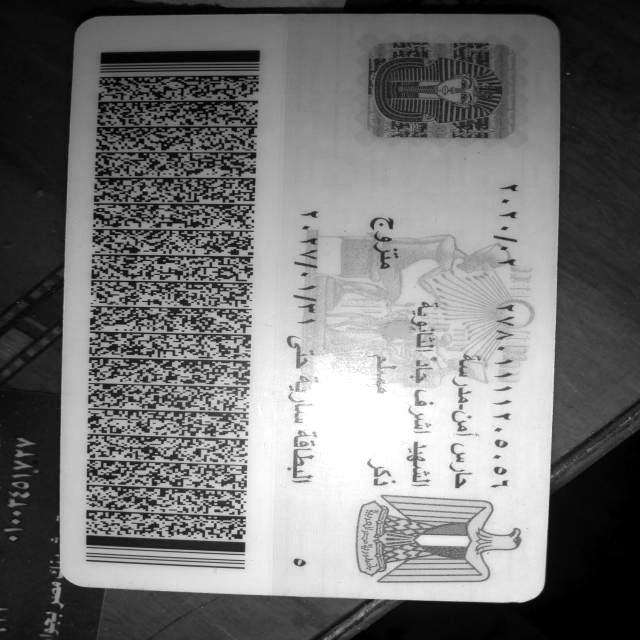id_card: (60, 14, 559, 601)
